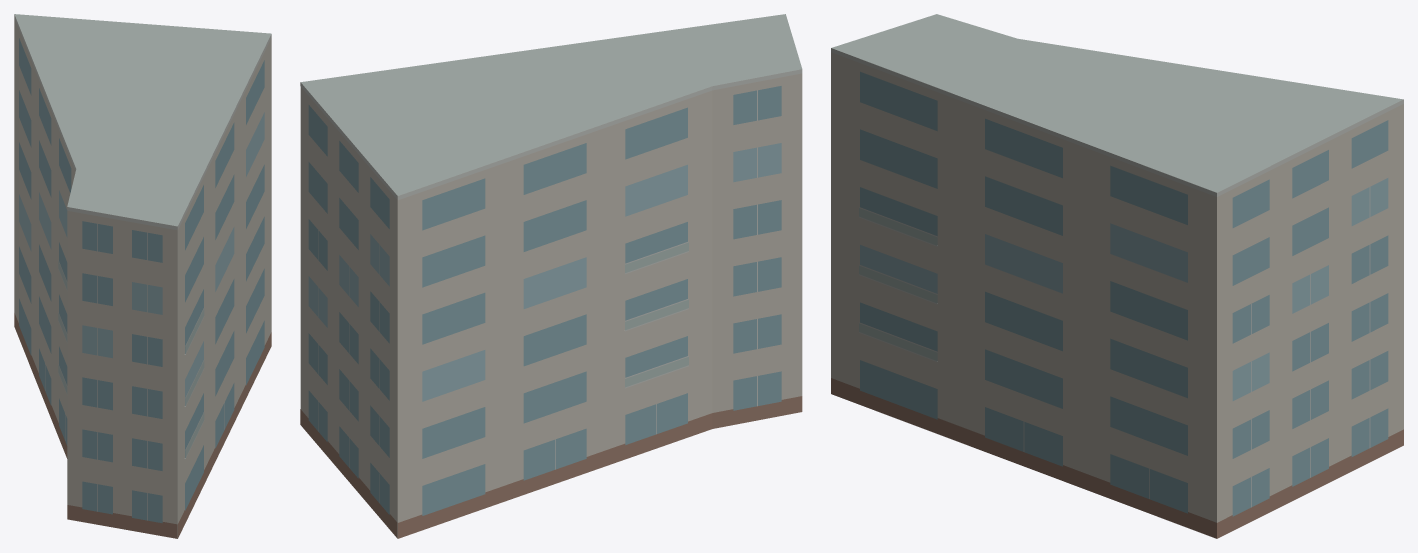
Rendered from survey-upis-32886979.glb.
3 renders of one model, left to right at view 1: azimuth 30°, elevation 25°; view 2: azimuth 150°, elevation 25°; view 3: azimuth 270°, elevation 25°, orthographic. The views are drawn at different scales.
Visible parts, largest first — view 1: survey-upis-32886979.tmp; view 2: survey-upis-32886979.tmp; view 3: survey-upis-32886979.tmp.
Part boxes in pixels (<box>): survey-upis-32886979.tmp: <box>14,14,271,538</box>; survey-upis-32886979.tmp: <box>300,14,802,538</box>; survey-upis-32886979.tmp: <box>831,14,1403,538</box>.
Bounding box in the file's own units: 22.07 × 19.9 × 29.86.
